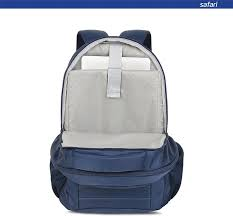backpack: (49, 28, 184, 213)
